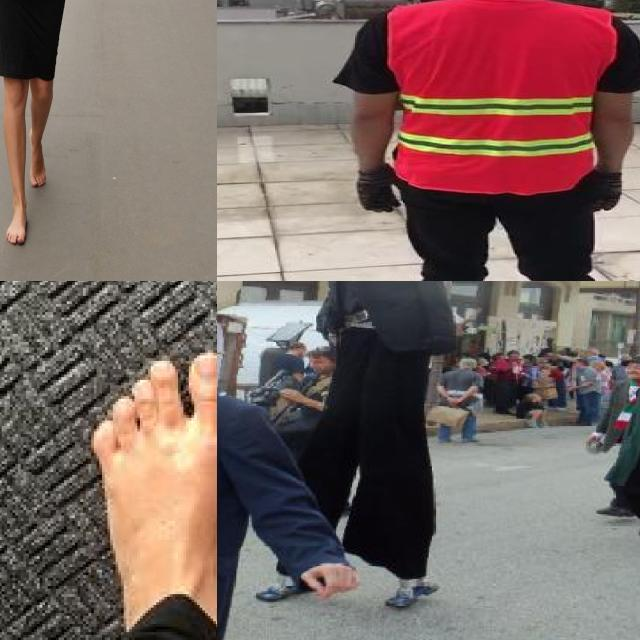Barefoots: (93, 352, 217, 640), (29, 128, 46, 187), (6, 200, 27, 245)
hand_glove: (357, 166, 403, 214), (586, 171, 625, 213)
hand_noglove: (301, 551, 364, 605)
person: (329, 0, 640, 281), (294, 281, 455, 610), (217, 317, 273, 640)
shoes: (380, 569, 444, 615)
vest: (382, 0, 604, 191)
